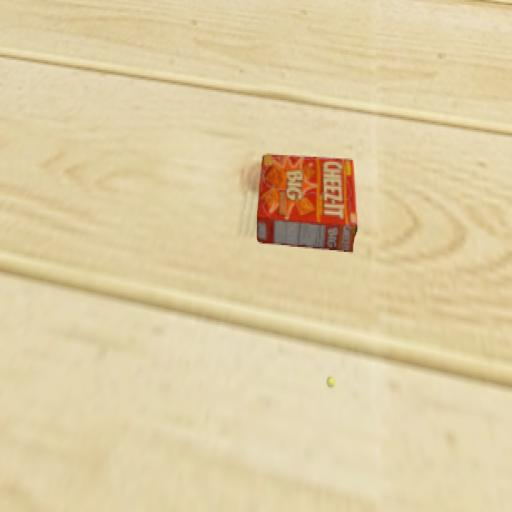BOX_R: (220, 56, 400, 330)
